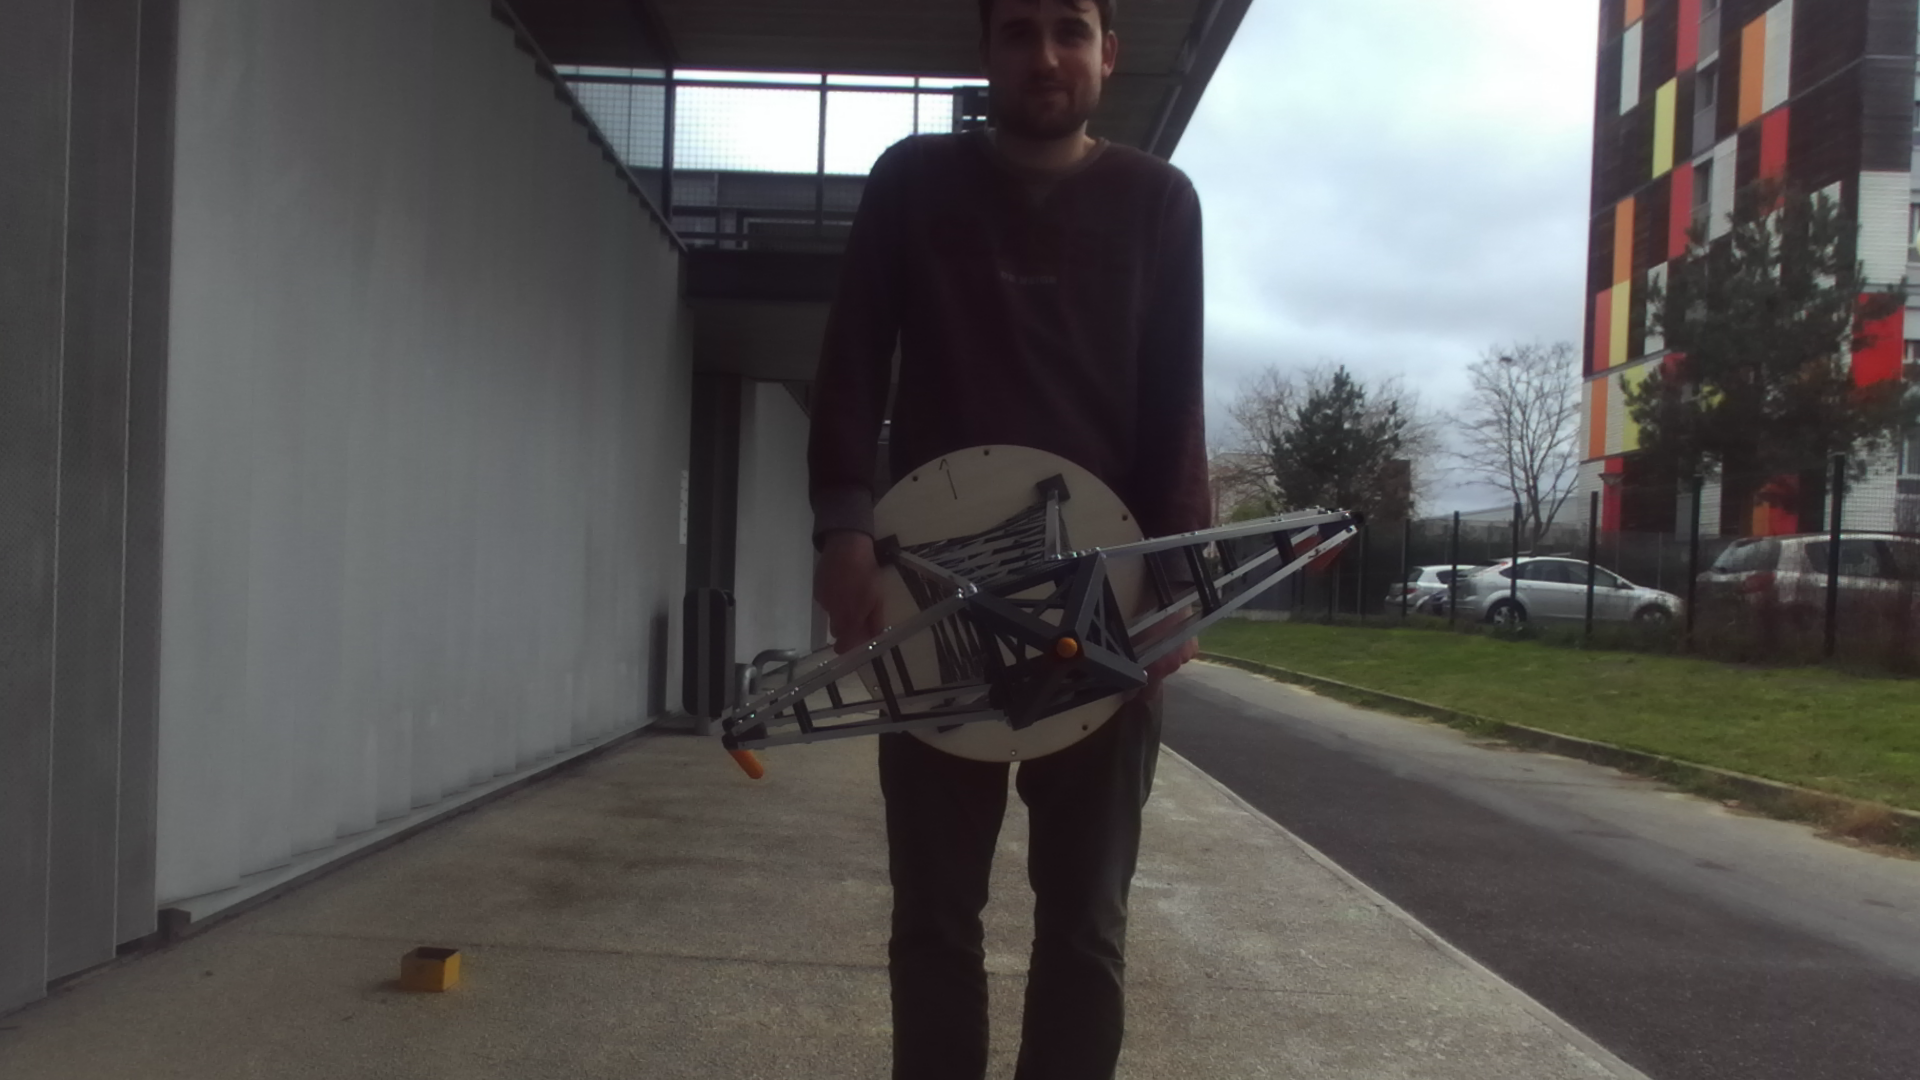pylon_phy: (717, 506, 1375, 758)
